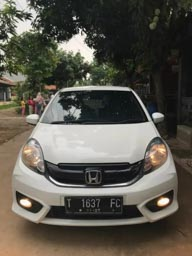plat: (62, 196, 122, 208)
